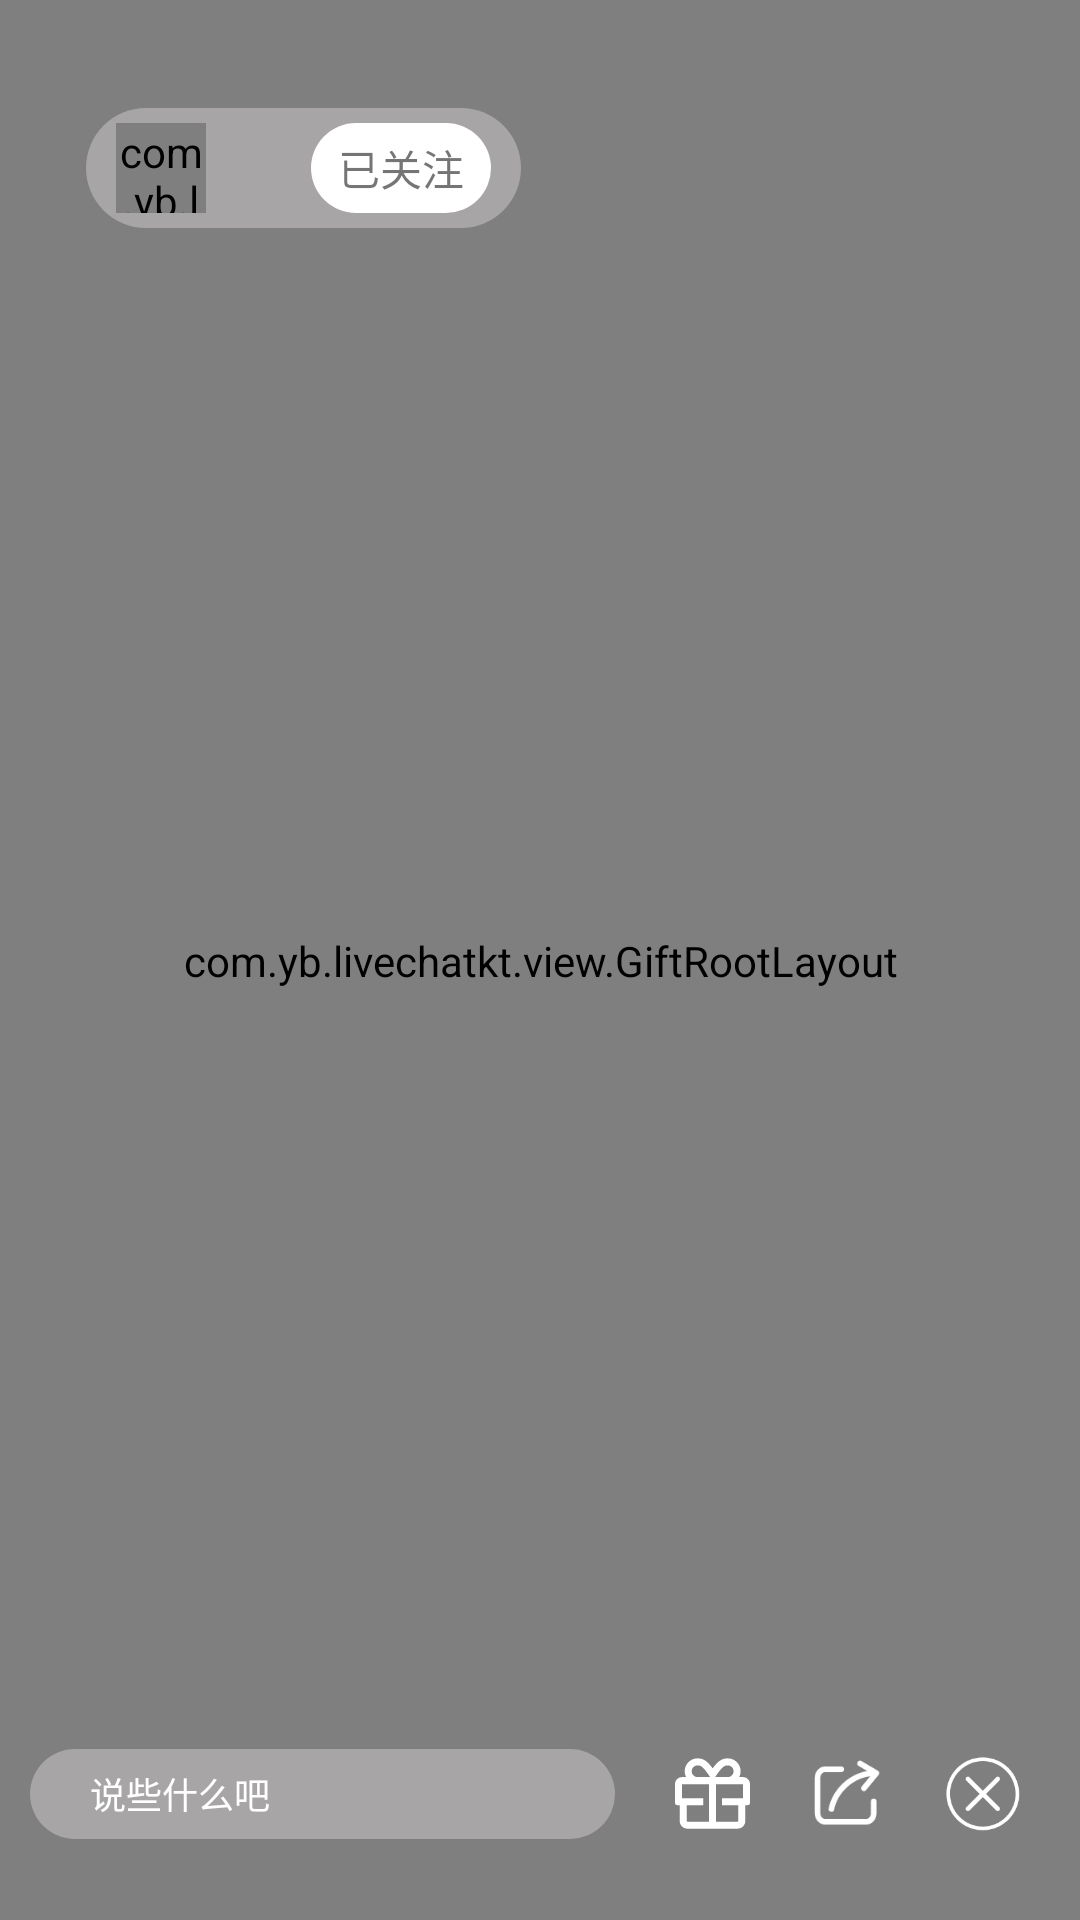

Icon click points for this 1080x1920 phone screenshot, format (x=x, y=y):
close: (x=983, y=1794)
gift: (x=712, y=1793)
share: (x=847, y=1792)
